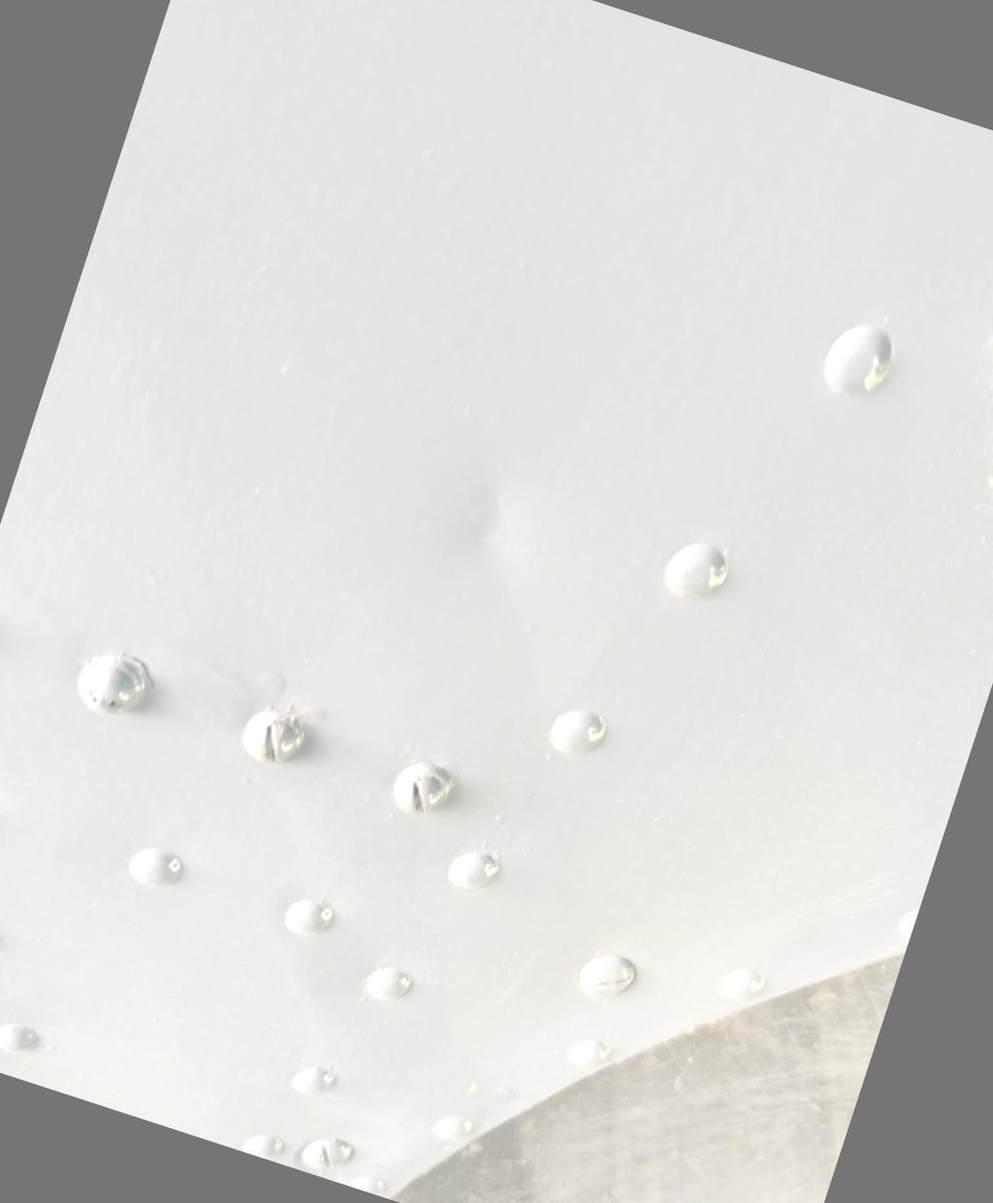dent: (416, 425, 570, 602)
